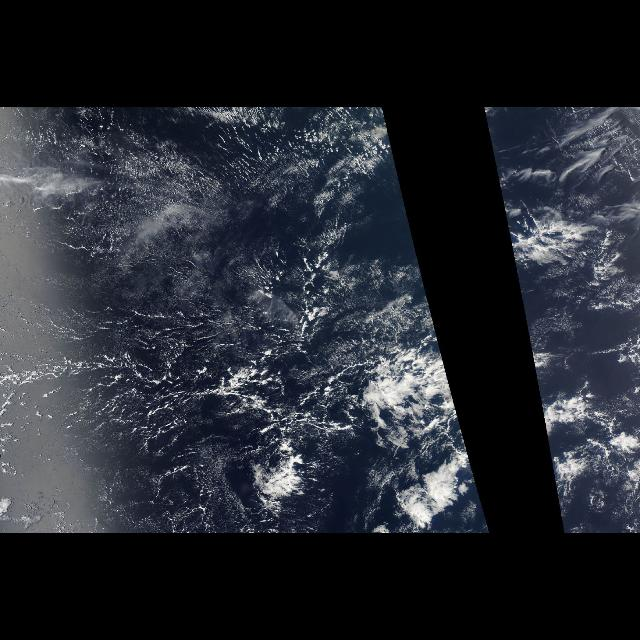Fish: (195, 332, 489, 524)
Gravel: (5, 294, 439, 528)
Sugar: (7, 110, 359, 294), (10, 314, 196, 480)
